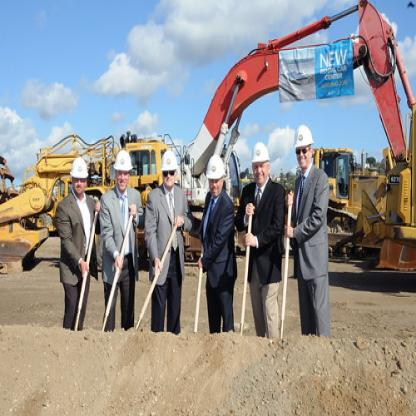person: (239, 130, 293, 360), (292, 102, 338, 342), (94, 122, 139, 335), (193, 129, 238, 341), (144, 125, 187, 335), (46, 152, 94, 336)
